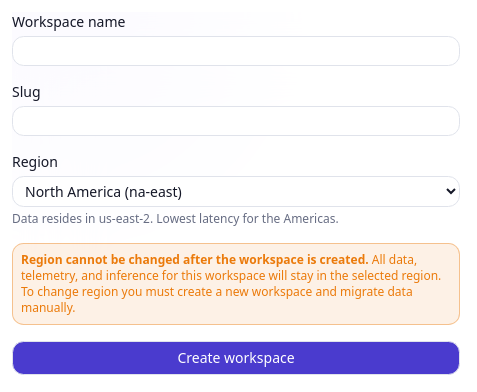
it: WorkspaceCreateForm (S594) › updates the region description when the dropdown changes
The image size is (477, 392).
Expected: the text with test id "workspace-create-region-description" shows "us-east-2", [12,210,339,227]
Select "European Union (eu-west)" in the dropdown with test id "workspace-create-region" at x=236, y=192, box [12,176,460,207]
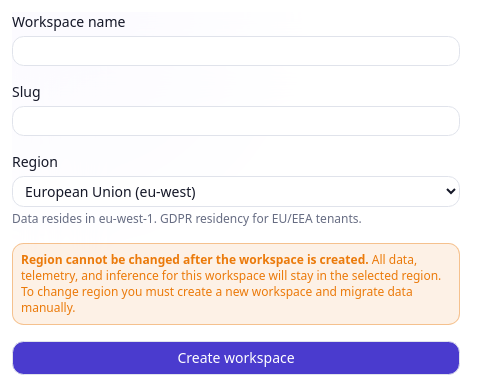
Now the text with test id "workspace-create-region-description" shows "eu-west-1", box [12,210,362,227]
